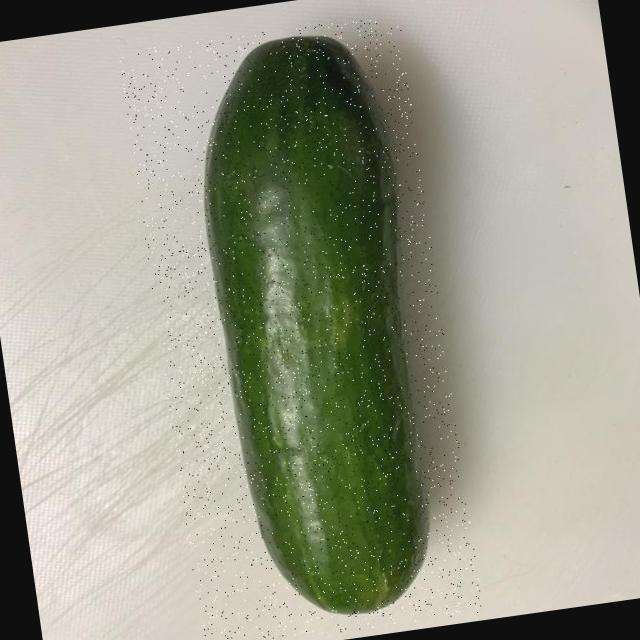Cucumber: (181, 22, 457, 634)
